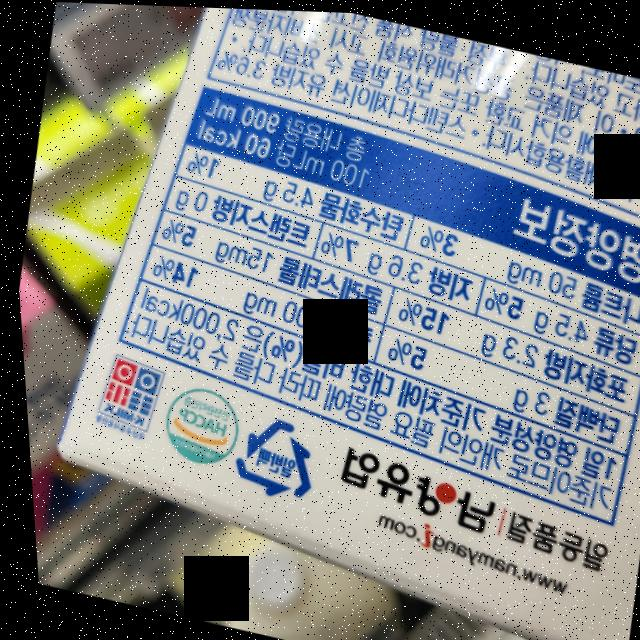NormalPack: (218, 404, 324, 508)
